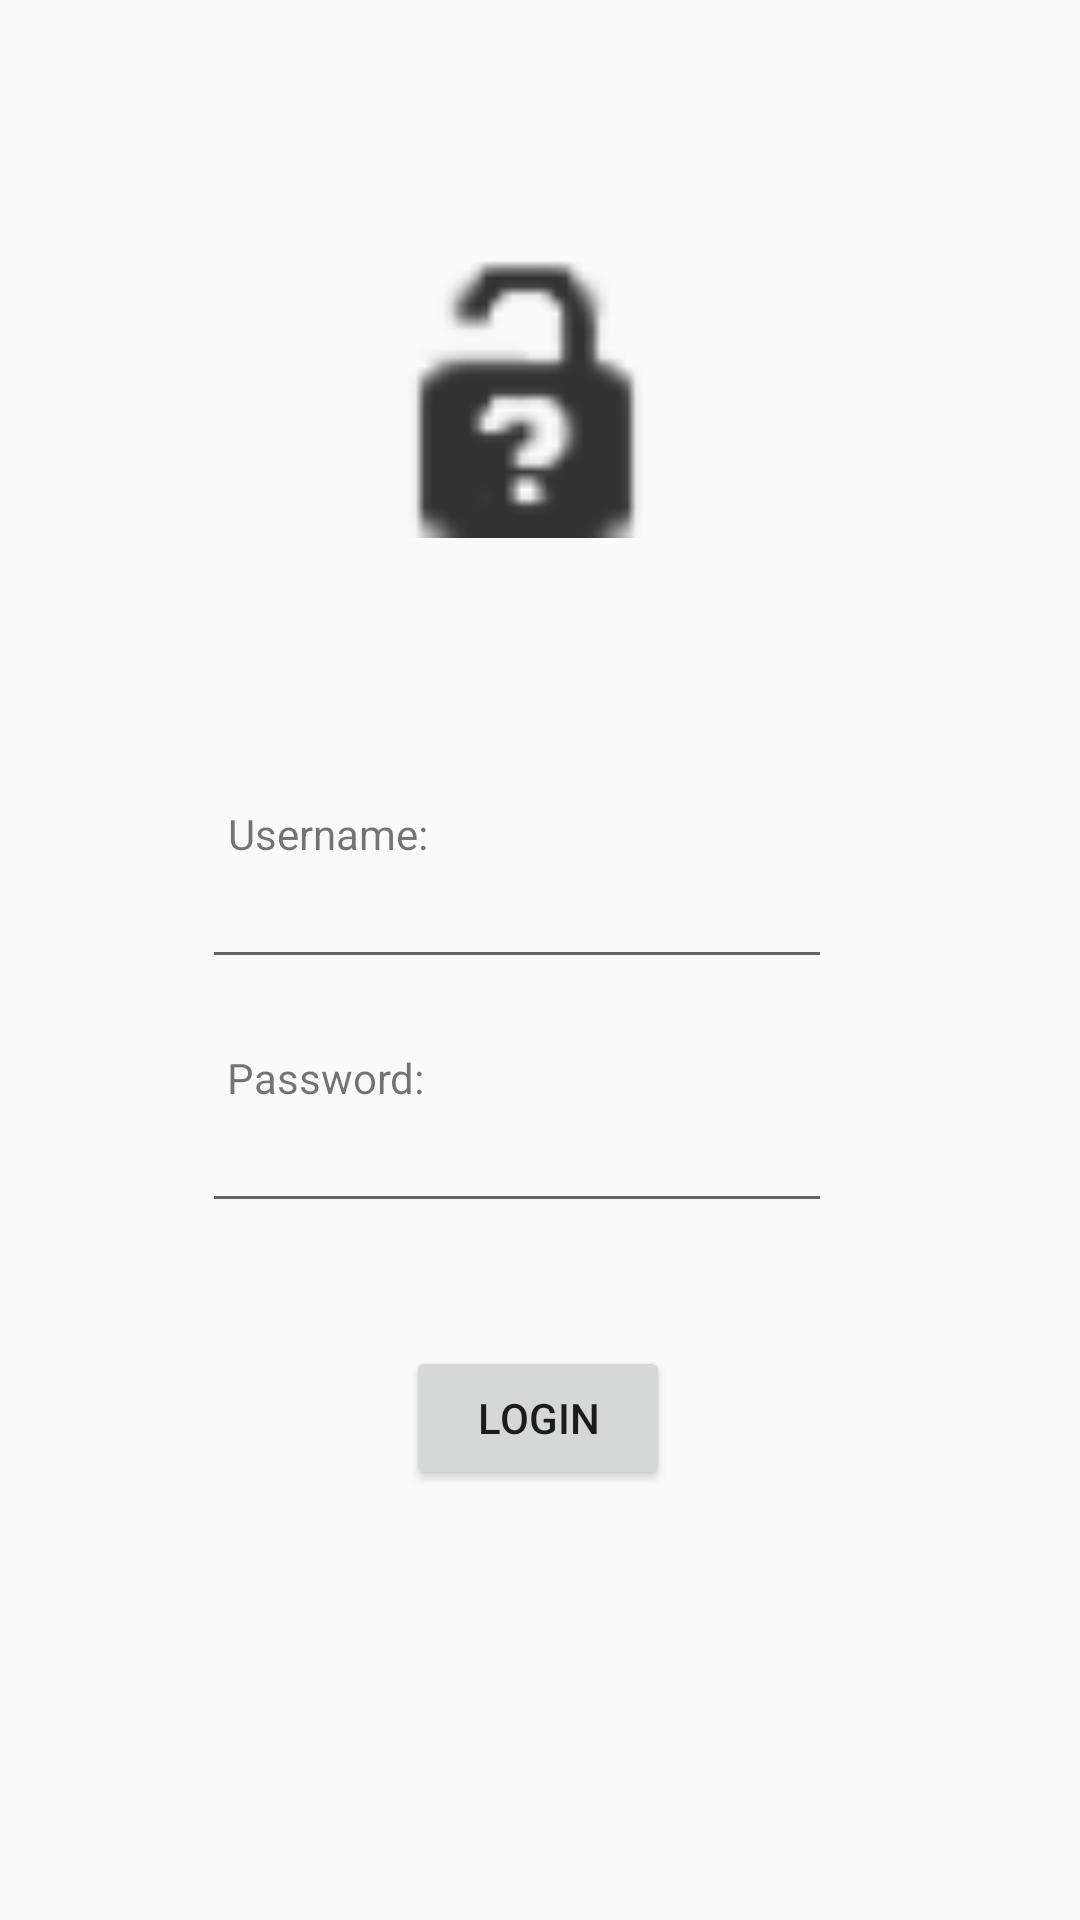

Screen size 1080*1920. Icon name, then its box in pixels as (x1, y1, x2, y2):
partial secure: (416, 262, 636, 538)
